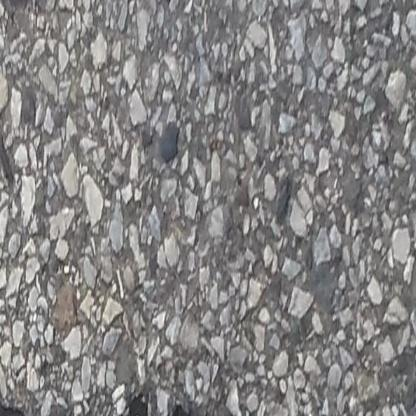Cracks: (0, 400, 221, 416)
